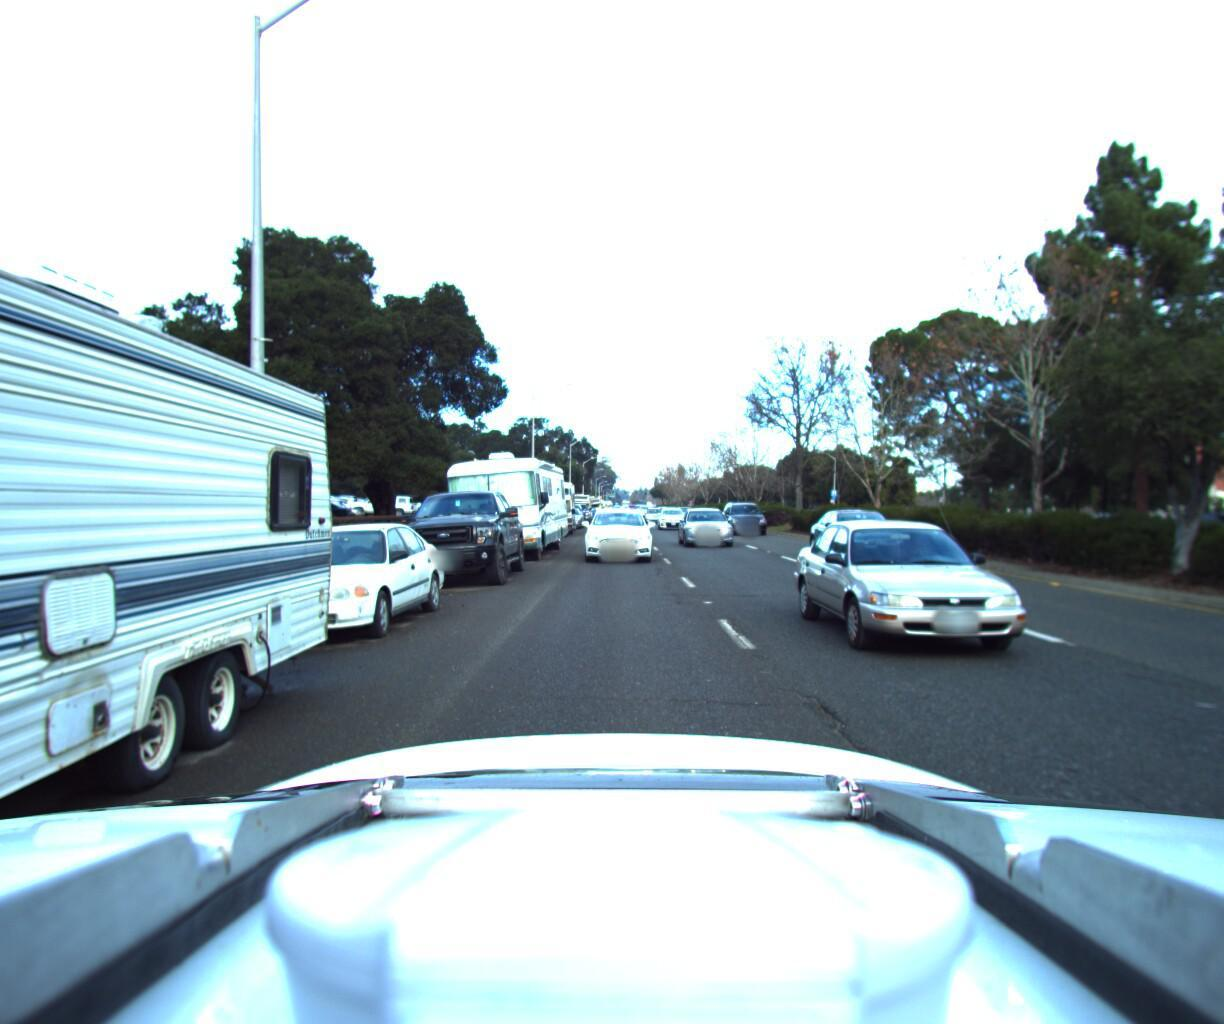car: (803, 503, 1145, 692), (200, 513, 445, 647), (375, 477, 527, 589), (813, 501, 936, 565), (576, 499, 655, 559), (675, 498, 743, 545), (719, 494, 775, 531), (652, 497, 687, 524), (642, 501, 665, 519)
other_vehicle: (429, 437, 569, 560), (561, 485, 591, 515)
